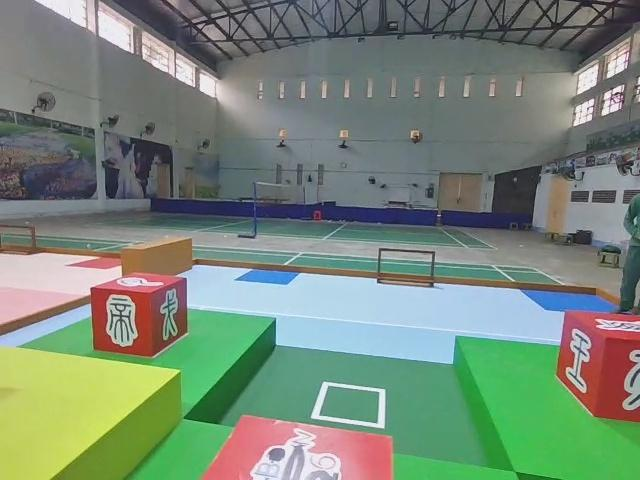R1: (198, 412, 396, 480)
R2 Fake: (554, 308, 640, 426), (88, 269, 190, 358)
